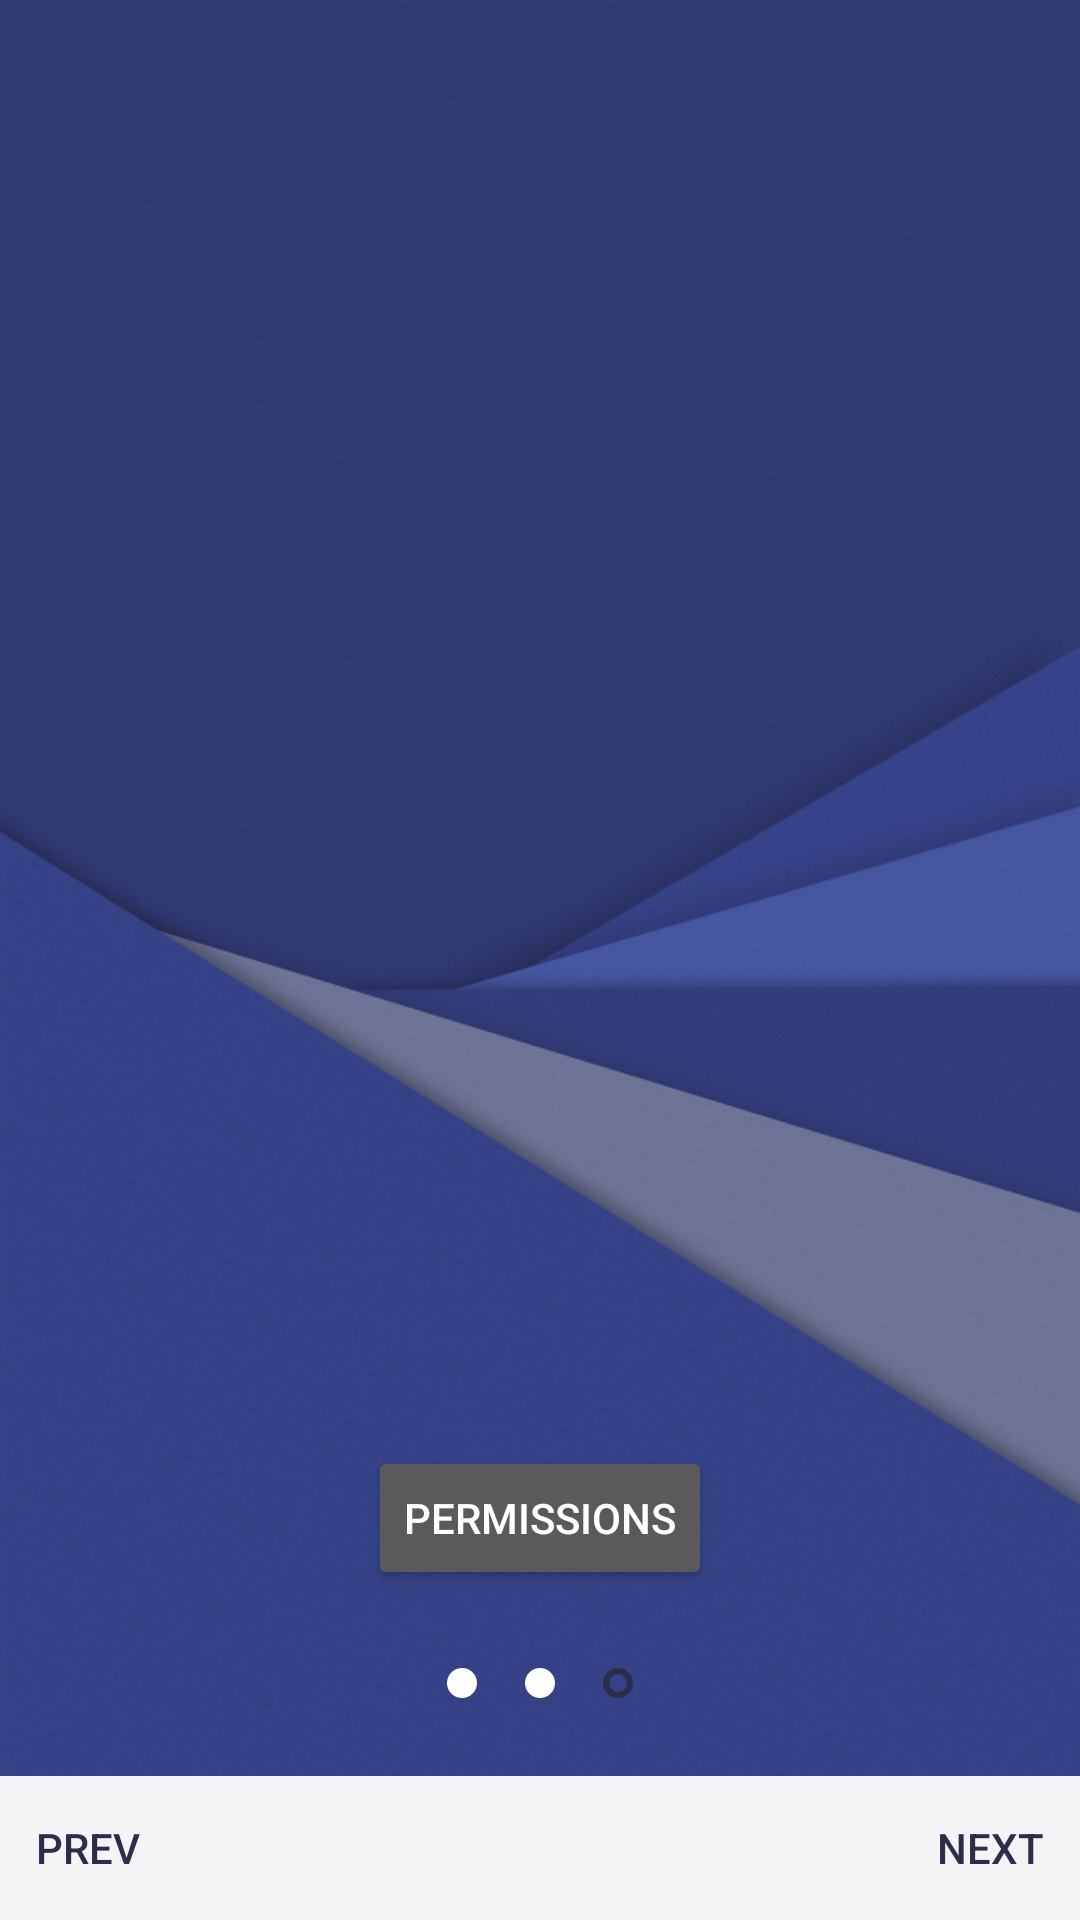

Screen size 1080 x 1920. Icon name, then its box in pixels as BBox(x1, y1, x2, y2):
dot: BBox(447, 1668, 477, 1698), BBox(525, 1668, 555, 1698)
dot empty: BBox(603, 1668, 633, 1698)
